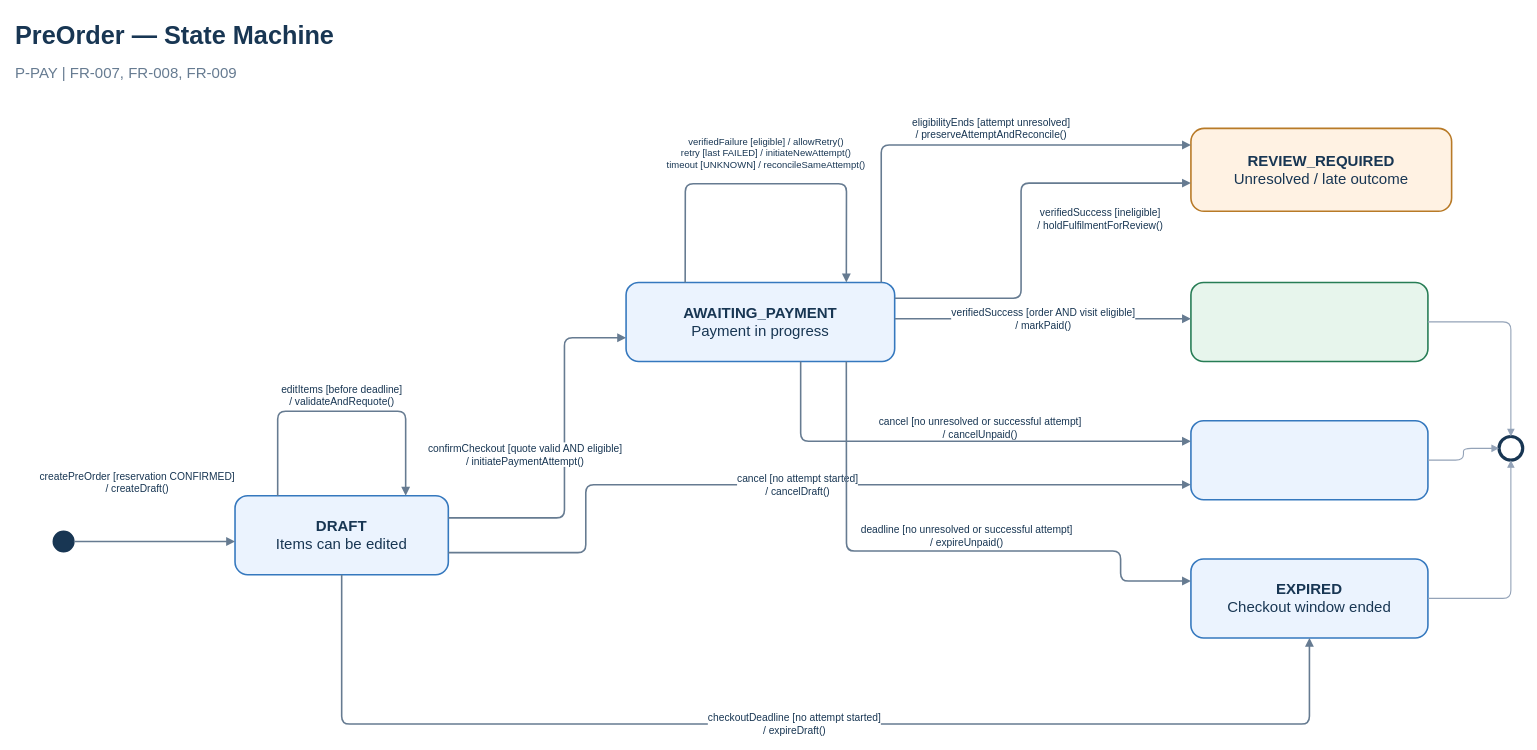
The diagram is 1537 pixels wide and 750 high, and some of its shapes have lost their labels. Here are the shapes that lost their labels. From the top down, the centre of each, then its label:
At point (1309, 321): "PAID Verified and eligible".
At point (1309, 459): "CANCELLED Cancelled before charge".
